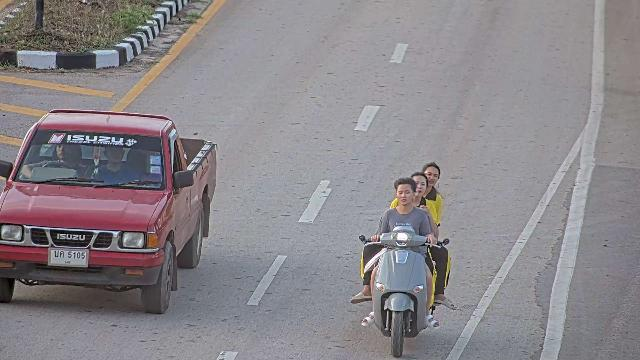pickup-truck: (0, 108, 218, 314)
truck: (344, 189, 453, 360)
